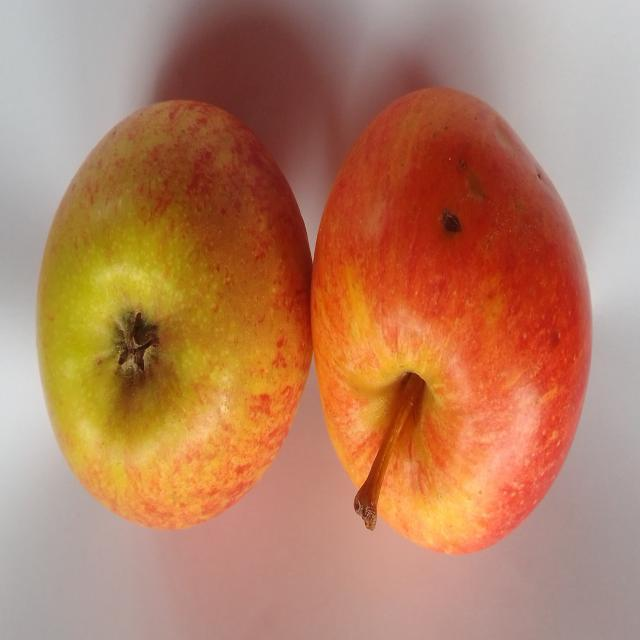Fresh Apple: (35, 92, 315, 533)
Rotten: (322, 73, 595, 562)
